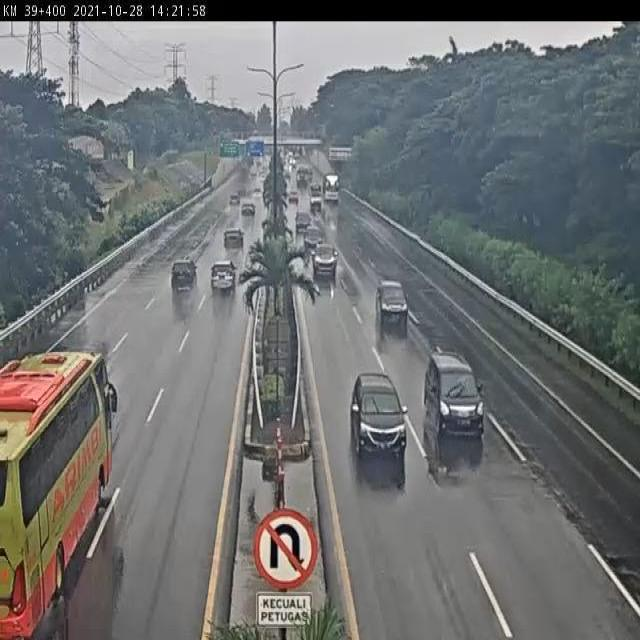car: (423, 348, 488, 444), (348, 369, 407, 460), (372, 274, 409, 326), (169, 255, 200, 292), (207, 259, 238, 295), (311, 235, 337, 273), (223, 225, 247, 252), (302, 224, 324, 251), (294, 208, 313, 235)
truck: (0, 342, 114, 640)
